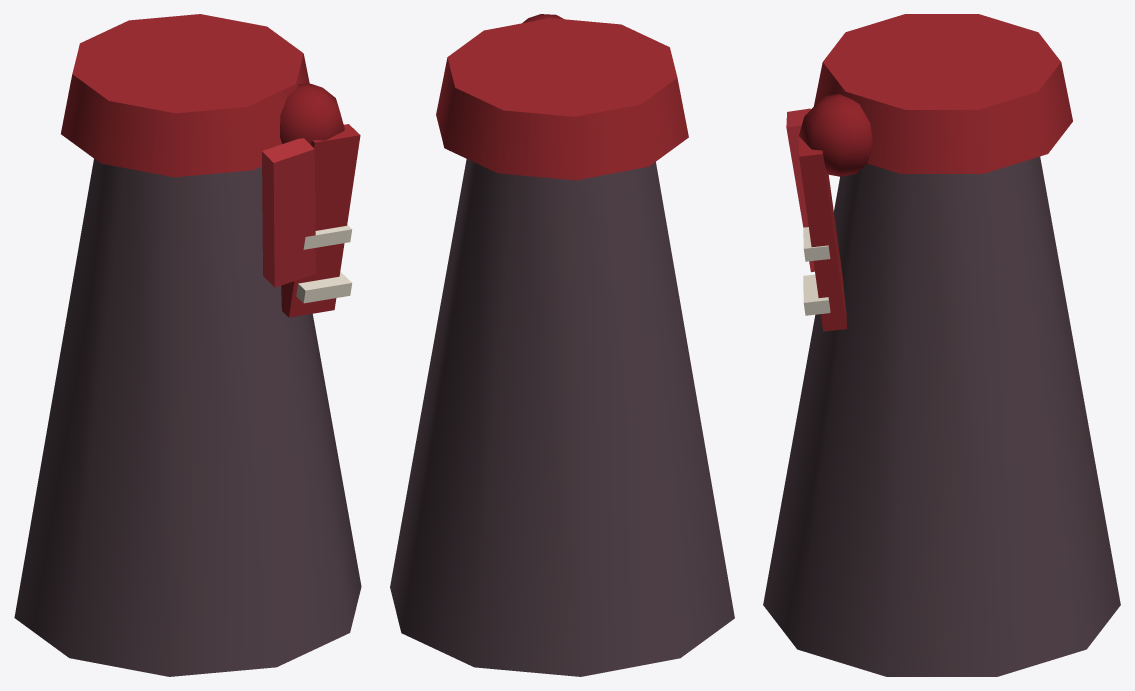
File: cat-coat-0.glb
3 renders of one model, left to right at view 1: azimuth 30°, elevation 25°; view 2: azimuth 150°, elevation 25°; view 3: azimuth 270°, elevation 25°, orthographic.
Parts seen in each view (by area): view 1: 00_paint0_r320, 01_#a3262c_r110, 03_#b83038_r110, 02_#8a1c22_r110, 04_#e8e0d0_noshadow_r110; view 2: 00_paint0_r320, 01_#a3262c_r110; view 3: 00_paint0_r320, 01_#a3262c_r110, 02_#8a1c22_r110, 04_#e8e0d0_noshadow_r110, 03_#b83038_r110.
Part boxes in pixels (x1=…): 00_paint0_r320: x1=14, y1=159, x2=361, y2=676; 01_#a3262c_r110: x1=61, y1=14, x2=360, y2=317; 03_#b83038_r110: x1=262, y1=138, x2=315, y2=287; 02_#8a1c22_r110: x1=279, y1=83, x2=344, y2=144; 04_#e8e0d0_noshadow_r110: x1=296, y1=225, x2=352, y2=303; 00_paint0_r320: x1=390, y1=159, x2=734, y2=676; 01_#a3262c_r110: x1=436, y1=18, x2=688, y2=180; 00_paint0_r320: x1=763, y1=156, x2=1120, y2=676; 01_#a3262c_r110: x1=798, y1=14, x2=1072, y2=331; 02_#8a1c22_r110: x1=799, y1=94, x2=872, y2=176; 04_#e8e0d0_noshadow_r110: x1=803, y1=227, x2=830, y2=315; 03_#b83038_r110: x1=786, y1=108, x2=814, y2=272.
Bounding box in the file's own units: 0.5706 × 1 × 0.6.
